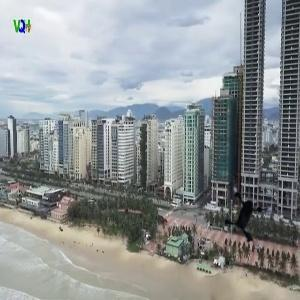drone: (213, 177, 292, 256)
